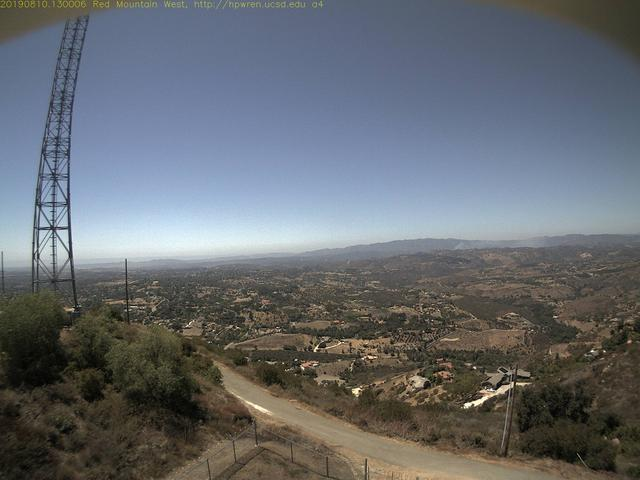smoke: (451, 233, 553, 254)
